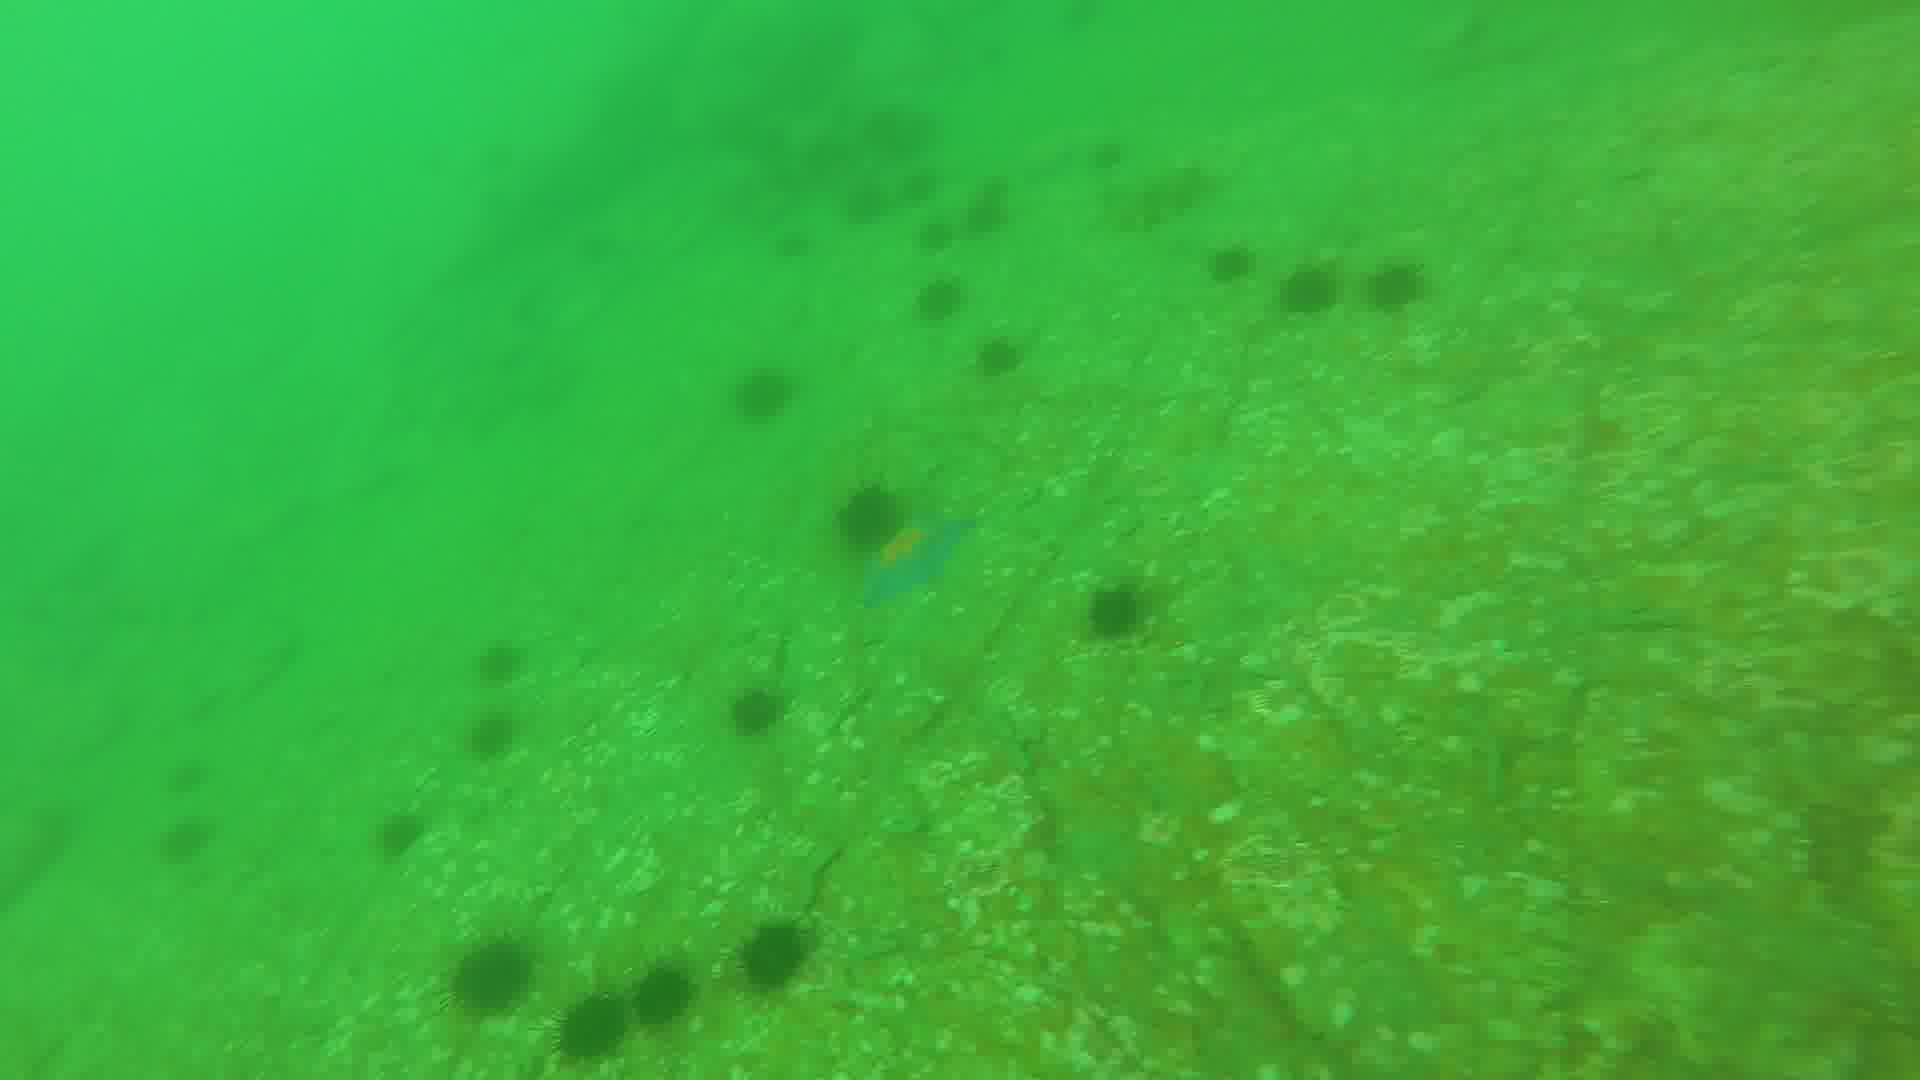echinus: (444, 936, 533, 1017), (1270, 258, 1346, 324), (558, 997, 633, 1062), (738, 923, 808, 989), (837, 488, 906, 553), (636, 965, 696, 1031), (1087, 584, 1146, 636), (1199, 243, 1266, 287), (735, 367, 787, 423), (731, 688, 789, 740), (1370, 265, 1433, 311), (469, 713, 529, 758), (484, 640, 533, 694), (158, 814, 204, 869), (977, 330, 1026, 380), (377, 814, 423, 862), (915, 281, 972, 320), (957, 193, 1011, 233), (1080, 136, 1131, 177), (914, 222, 964, 255)
holothurian: (1108, 165, 1220, 232)
starfish: (858, 497, 977, 618)
